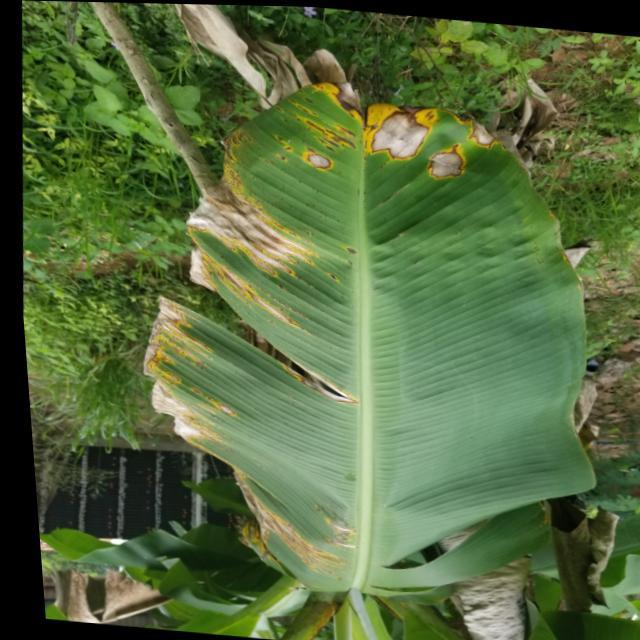Early_rust: (148, 74, 564, 585)
